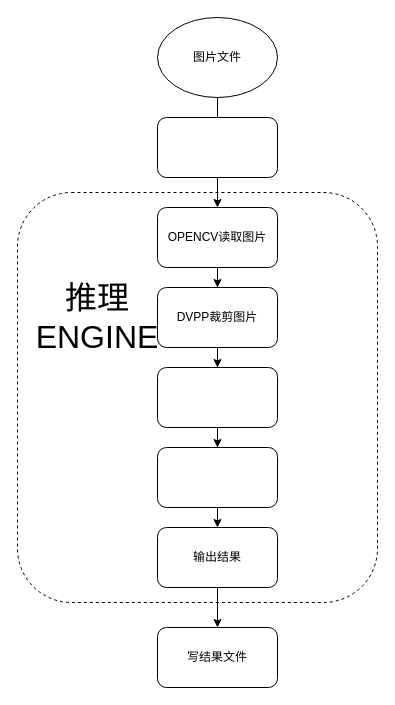
Image size: 395x705. Some labels were removed from this diagram. The shapes that lost their labels are listed below. From the top down, each one's centre as x and y in pixels, then its label:
At point 217,147: "调用GRAPH，简答一点，就一个推理ENGINE，一个输出ENGINE".
At point 217,397: "AIPP图片预处理".
At point 217,477: "调用推理函数".
